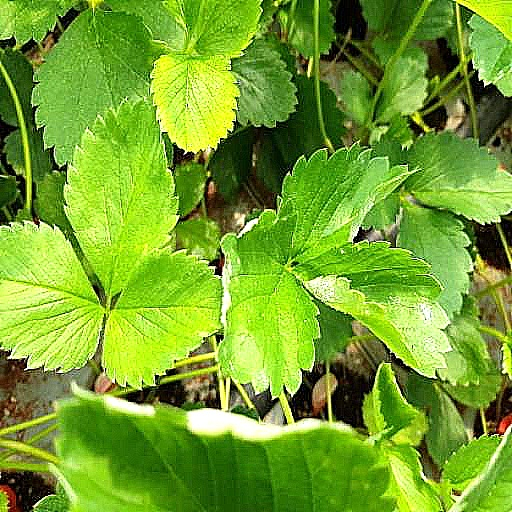Powdery Mildew Leaf: (287, 238, 452, 380), (213, 196, 322, 400), (276, 139, 421, 265)
